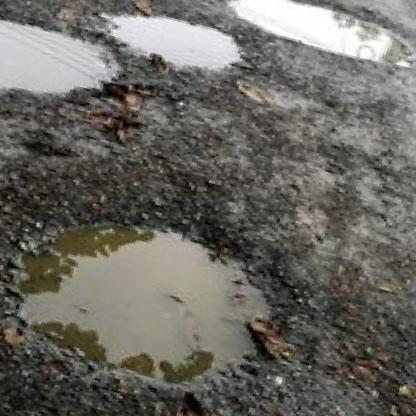pothole: (0, 163, 323, 416), (217, 0, 416, 82), (0, 0, 130, 121), (93, 0, 249, 83)
